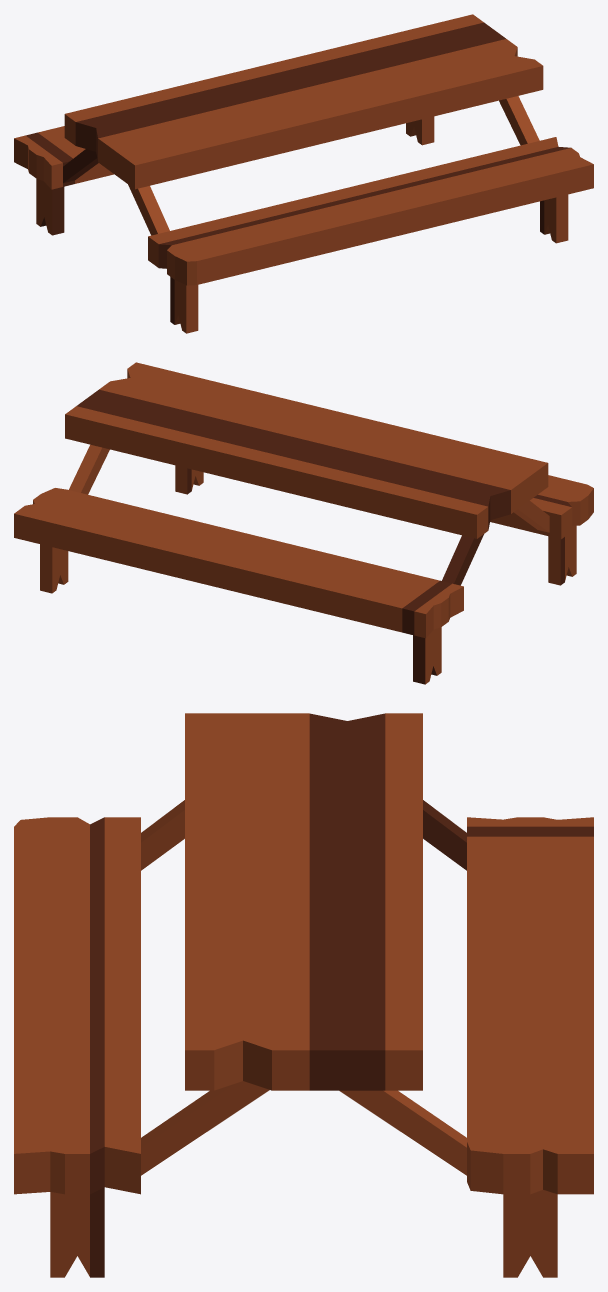
Rendered from bench.fbx.
The picture shows the model from 3 angles, top to bottom: view 1: azimuth 30°, elevation 25°; view 2: azimuth 150°, elevation 25°; view 3: azimuth 270°, elevation 25°; orthographic projection. The views are drawn at different scales.
Parts seen in each view (by area): view 1: Cube; view 2: Cube; view 3: Cube.
Part boxes in pixels (bbox=[...]): Cube: bbox=[14, 14, 593, 333]; Cube: bbox=[14, 362, 593, 684]; Cube: bbox=[14, 713, 593, 1277].
Bounding box in the file's own units: 1809 × 601 × 1317.
